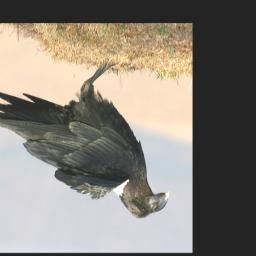Crow: (0, 56, 172, 221)
